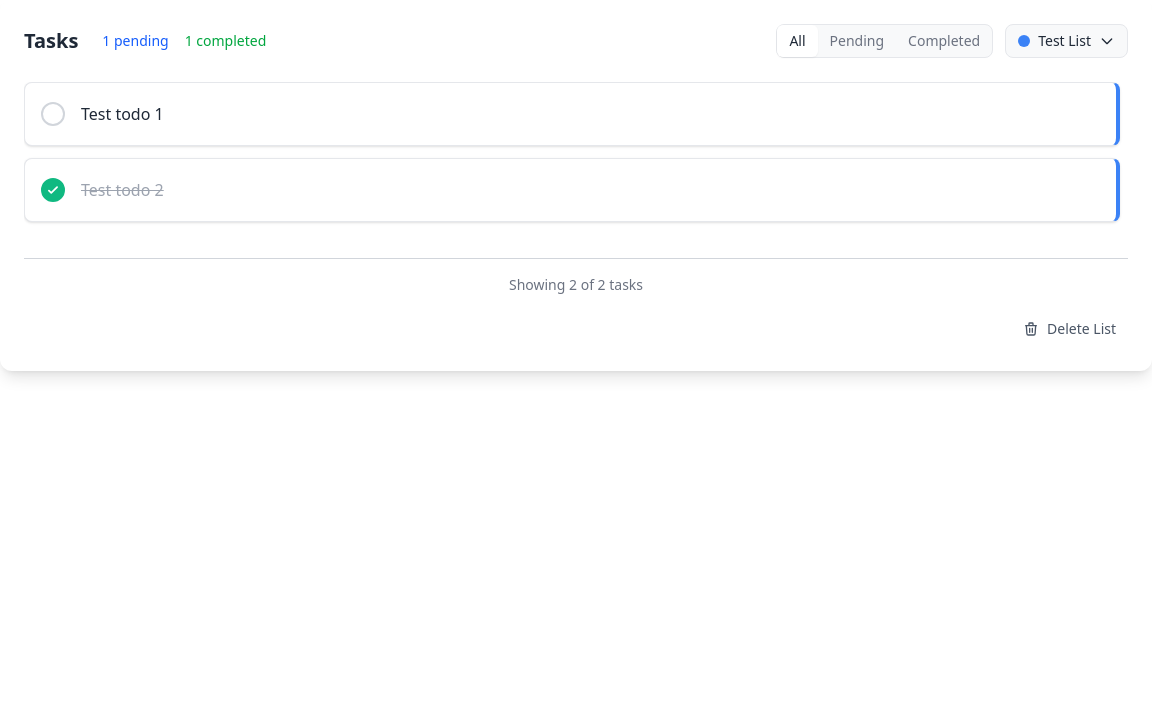
Test: TodoList › shows delete confirmation dialog
Click the button "Delete List" at (1070, 329), box [1011, 311, 1128, 347]
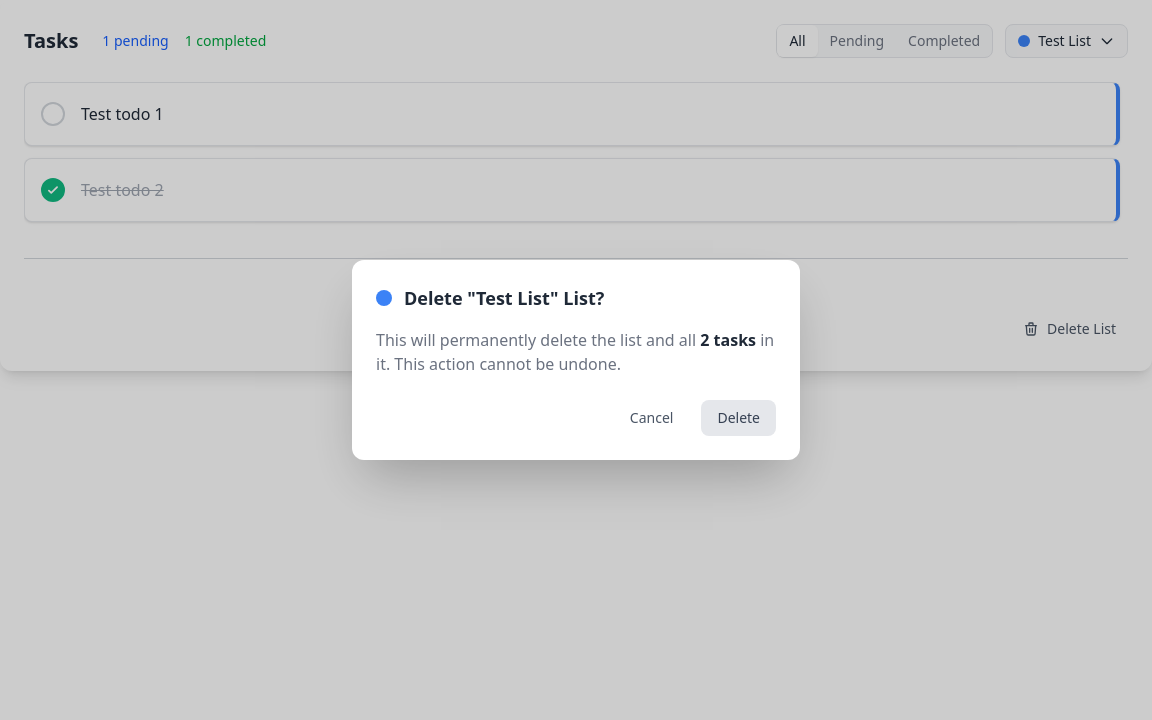
Check: the heading "Delete \"Test List\" List?" is shown, box [404, 284, 604, 312]
Check: the text "This will permanently delete the list and all" is shown, box [376, 329, 696, 351]
